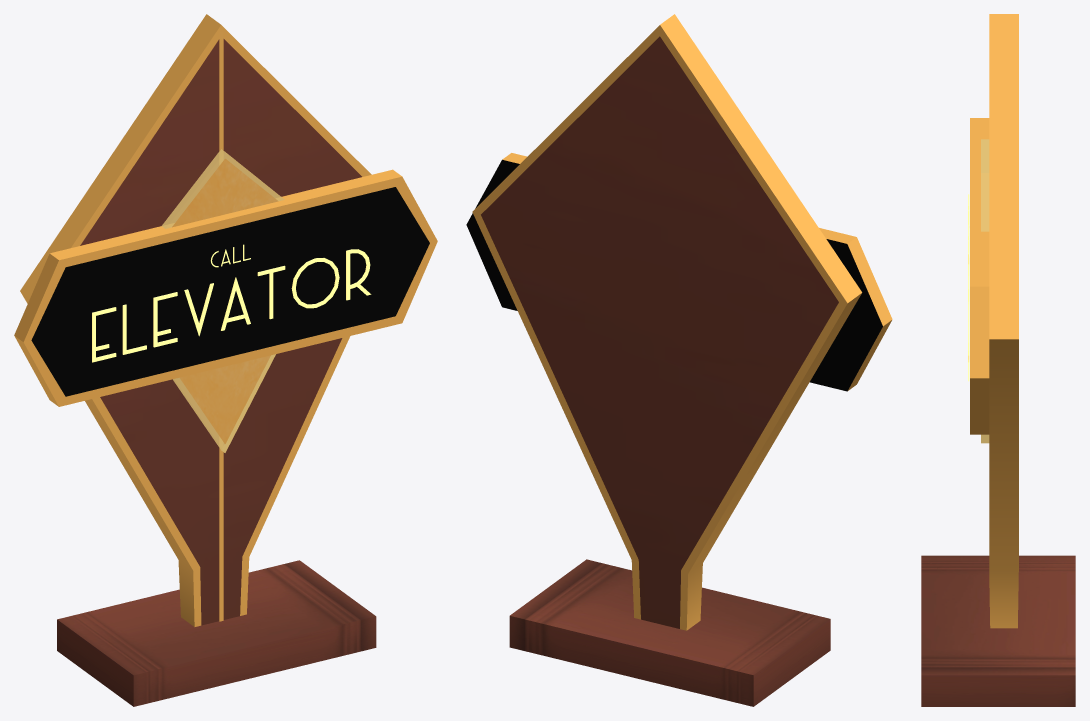
File: elevatorCallButton2.glb
The picture shows the model from 3 angles, left to right: view 1: azimuth 30°, elevation 25°; view 2: azimuth 150°, elevation 25°; view 3: azimuth 270°, elevation 25°; orthographic projection.
Visible parts, largest first — view 1: Cube.050, Cube.051, Cube.049, Cube.052, 5552.007, Plane.014; view 2: Cube.050, Cube.049, Cube.051; view 3: Cube.049, Cube.050, Cube.051, Cube.052, 5552.007.
Boxes of the visible parts, <box> form: Cube.050: <box>20,14,371,626</box>; Cube.051: <box>14,169,437,406</box>; Cube.049: <box>57,560,376,706</box>; Cube.052: <box>162,149,284,452</box>; 5552.007: <box>92,249,371,362</box>; Plane.014: <box>219,31,223,621</box>; Cube.050: <box>472,14,862,630</box>; Cube.049: <box>509,559,830,706</box>; Cube.051: <box>466,153,892,391</box>; Cube.049: <box>921,555,1075,706</box>; Cube.050: <box>989,14,1018,628</box>; Cube.051: <box>970,118,989,434</box>; Cube.052: <box>981,139,989,443</box>; 5552.007: <box>968,194,969,381</box>.
Size of the model in its own units: 2.75 by 3.98 by 0.8795.
5 materials, 3 textured.
